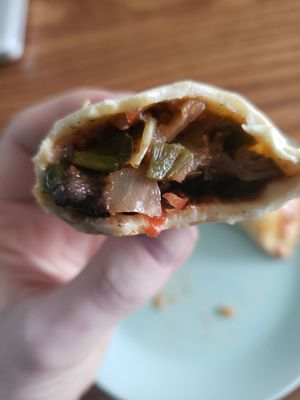pizza: (0, 0, 30, 67)
